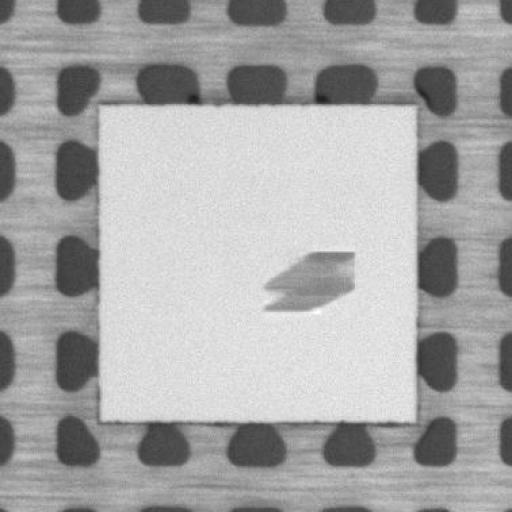DIE_INK: (260, 247, 354, 316)
